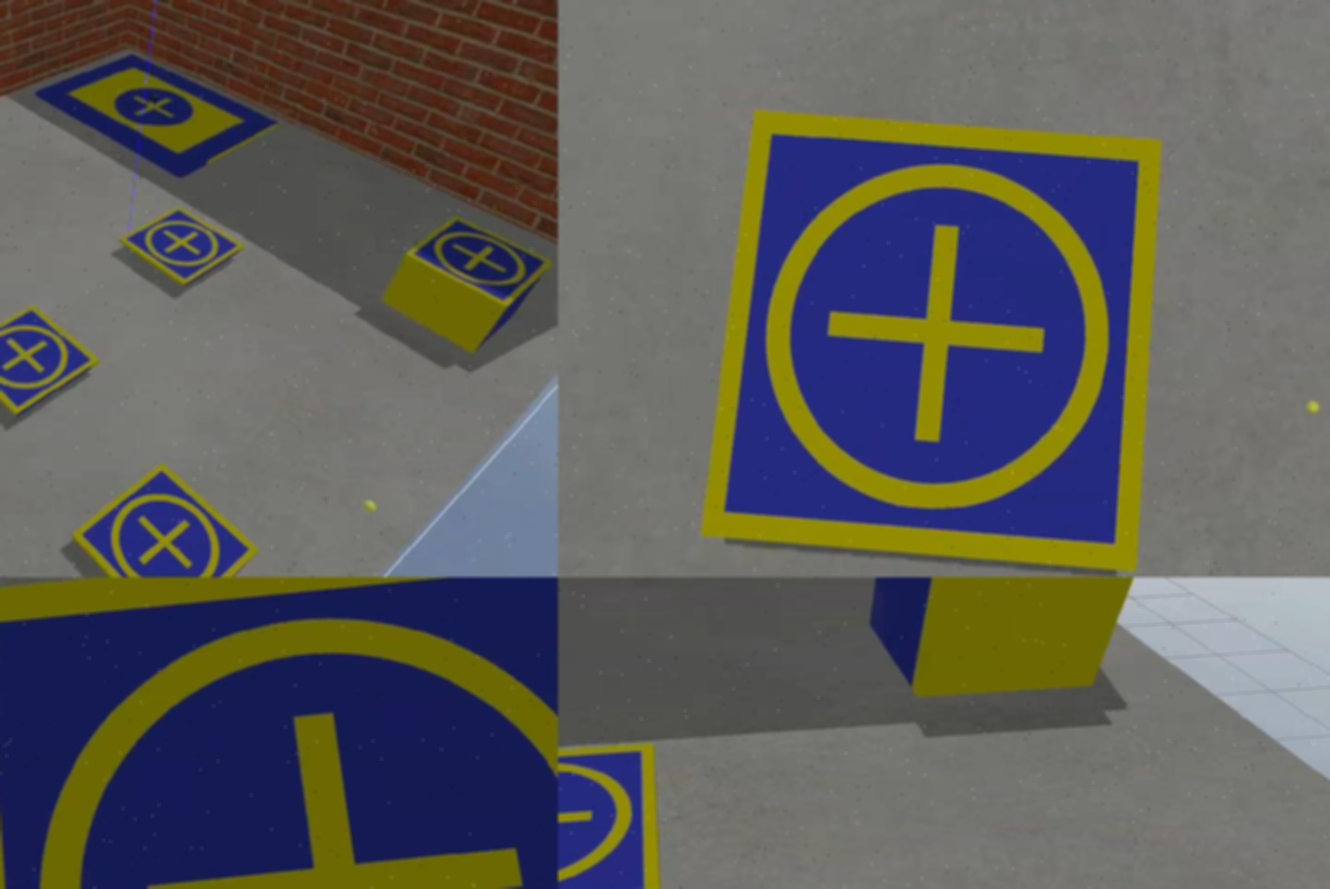large_base: (35, 53, 282, 182)
small_base: (704, 102, 1168, 575), (1, 578, 558, 889), (69, 465, 261, 578), (558, 746, 666, 889), (405, 217, 557, 312), (1, 304, 103, 417), (118, 209, 244, 288)
